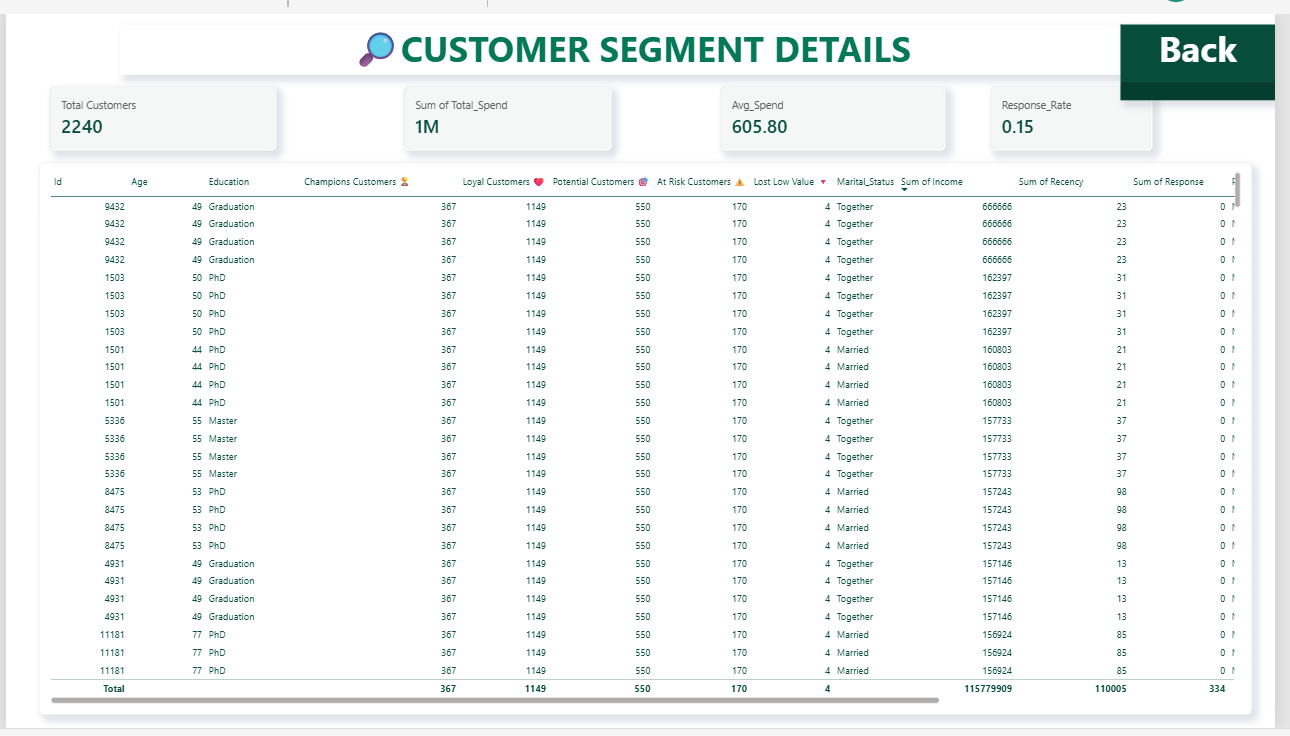

Layout of this report page (visuals, bound fields, positions):
{"tool":"powerbi","page":{"name":"🔎Customer Segment Details","canvas":[1920,1080],"ordinal":2},"visuals":[{"type":"textbox","box":[171.8,16.7,1562.8,76.3],"z":0},{"type":"tableEx","fields":{"Values":["Superstore Marketing Campaign D.Id","Cleaned Data.Age","Cleaned Data.Education","Business Hypotheses.Champions Customers 🏆","Business Hypotheses.Loyal Customers ❤️","Business Hypotheses.Potential Customers 🎯","Business Hypotheses.At Risk Customers ⚠️","Business Hypotheses.Lost Low Value 🔻","Cleaned Data.Marital_Status","Sum(Cleaned Data.Income)","Sum(Cleaned Data.Recency)","Sum(Cleaned Data.Response)"]},"box":[50.1,224.3,1834.8,835.1],"z":2},{"type":"cardVisual","fields":{"Data":["Business Hypotheses.Total Customers"]},"box":[66.8,109.8,343.6,97.8],"z":4},{"type":"cardVisual","fields":{"Data":["Sum(Cleaned Data.Total_Spend)"]},"box":[601.3,109.8,314.9,97.8],"z":5},{"type":"cardVisual","fields":{"Data":["Cleaned Data.Avg_Spend"]},"box":[1080.8,109.8,341.2,97.8],"z":6},{"type":"cardVisual","fields":{"Data":["Cleaned Data.Response_Rate"]},"box":[1488.8,109.8,245.7,97.8],"z":7},{"type":"actionButton","title":"Back","box":[1686.8,16.7,233.8,114.5],"z":8}]}

Visuals, with their boxes in screenshot pixels (x1, y1, x2, y2), scaled from the page's 1920x1080 canvas onto the 1290x736 screenshot:
textbox: 115, 11, 1165, 63
tableEx - Superstore Marketing Campaign D.Id x Cleaned Data.Age: 34, 153, 1266, 722
cardVisual - Business Hypotheses.Total Customers: 45, 75, 276, 141
cardVisual - Sum(Cleaned Data.Total_Spend): 404, 75, 616, 141
cardVisual - Cleaned Data.Avg_Spend: 726, 75, 955, 141
cardVisual - Cleaned Data.Response_Rate: 1000, 75, 1165, 141
"Back" actionButton: 1133, 11, 1289, 89
